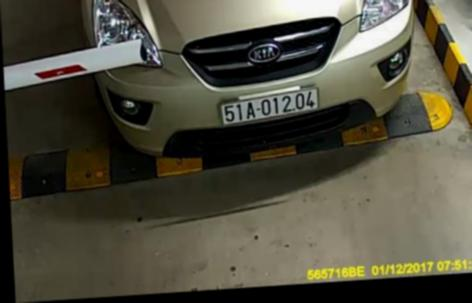License_Plate: (216, 86, 325, 127)
